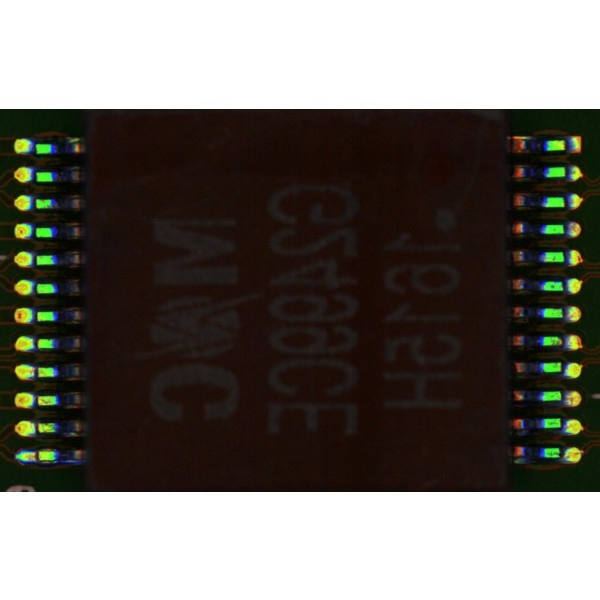Bad_podu: (24, 453, 49, 460)
